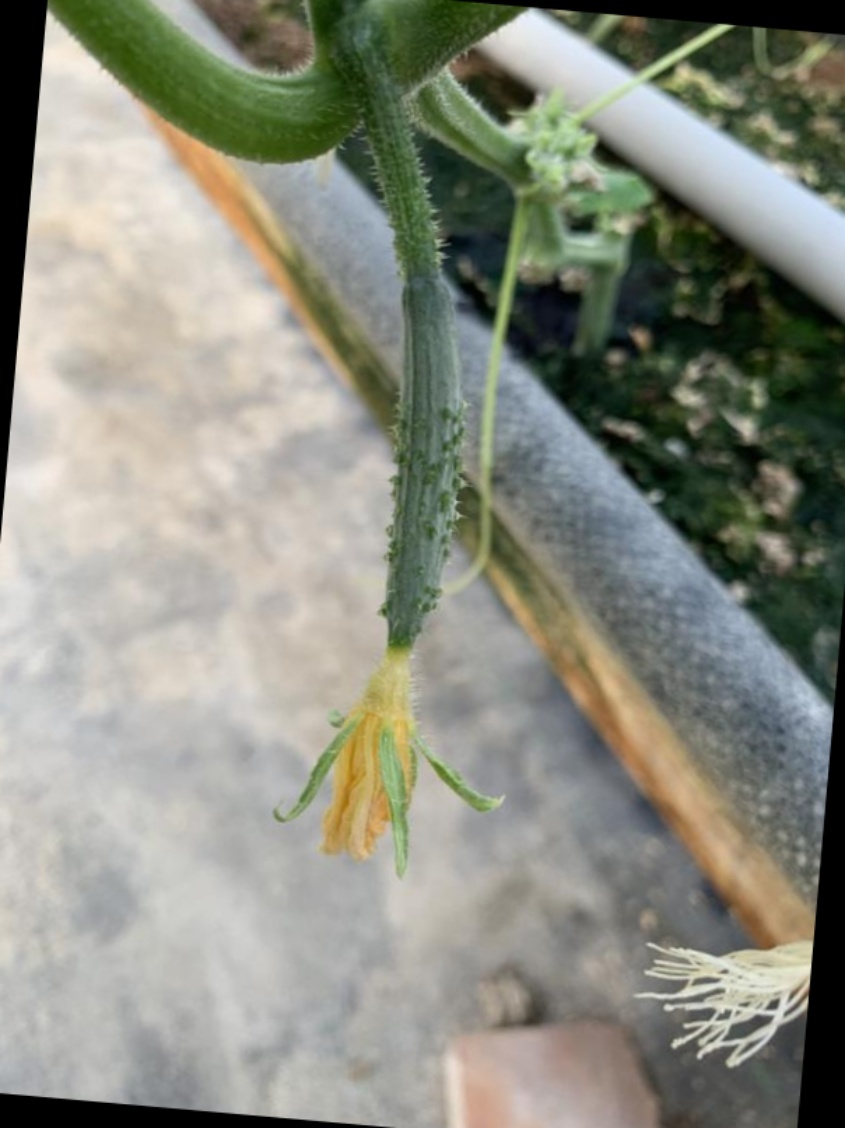bear: (256, 236, 520, 894)
